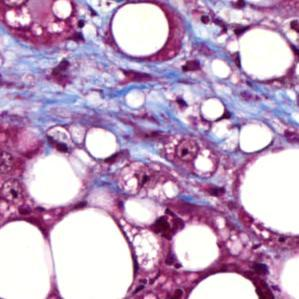steatosis: (110, 1, 170, 56), (85, 126, 120, 159)
